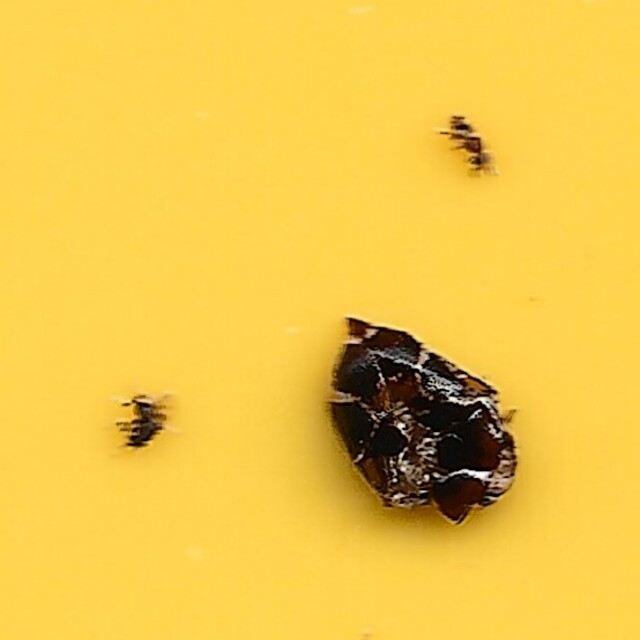Brachycera: (116, 388, 184, 461)
Hemiptera: (323, 309, 524, 528)
Hymenoptera: (431, 112, 500, 181)
